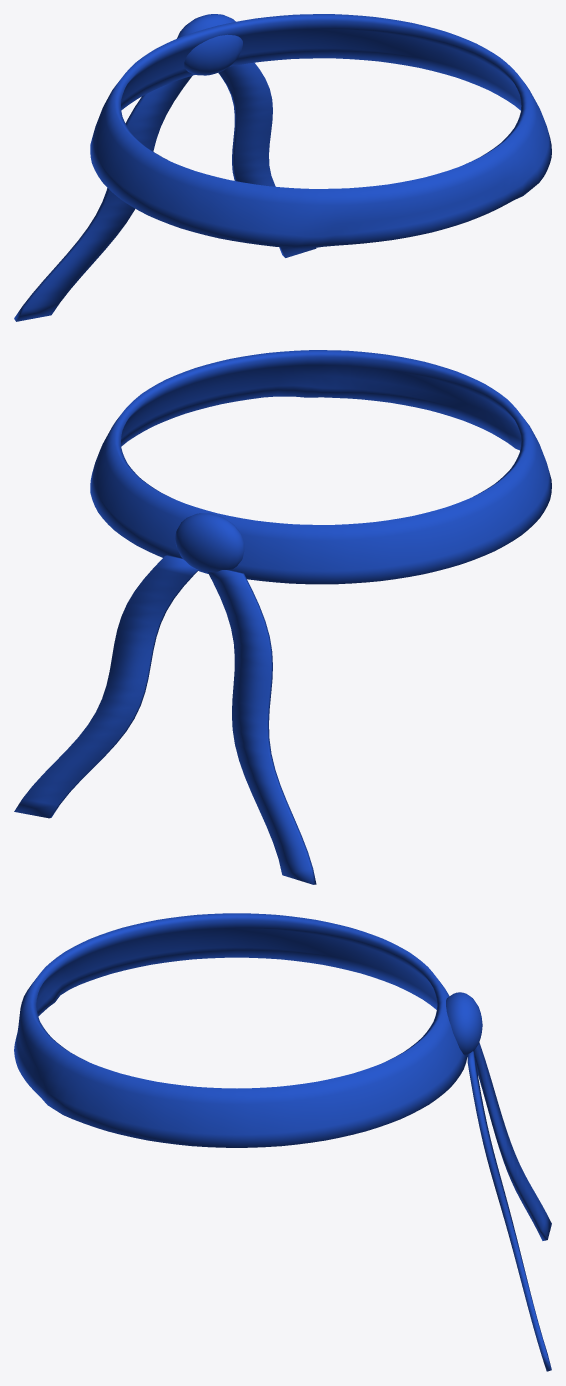
File: hachimaki_blue.fbx
3 renders of one model, top to bottom at view 1: azimuth 30°, elevation 25°; view 2: azimuth 150°, elevation 25°; view 3: azimuth 270°, elevation 25°, orthographic.
Visible parts, largest first — view 1: hachimaki; view 2: hachimaki; view 3: hachimaki.
Part boxes in pixels (box(x1,y1,x2,y2)): hachimaki: box(14, 14, 551, 321); hachimaki: box(14, 350, 551, 884); hachimaki: box(14, 913, 551, 1371).
Bounding box in the file's own units: 1.02 × 0.7337 × 1.19.
